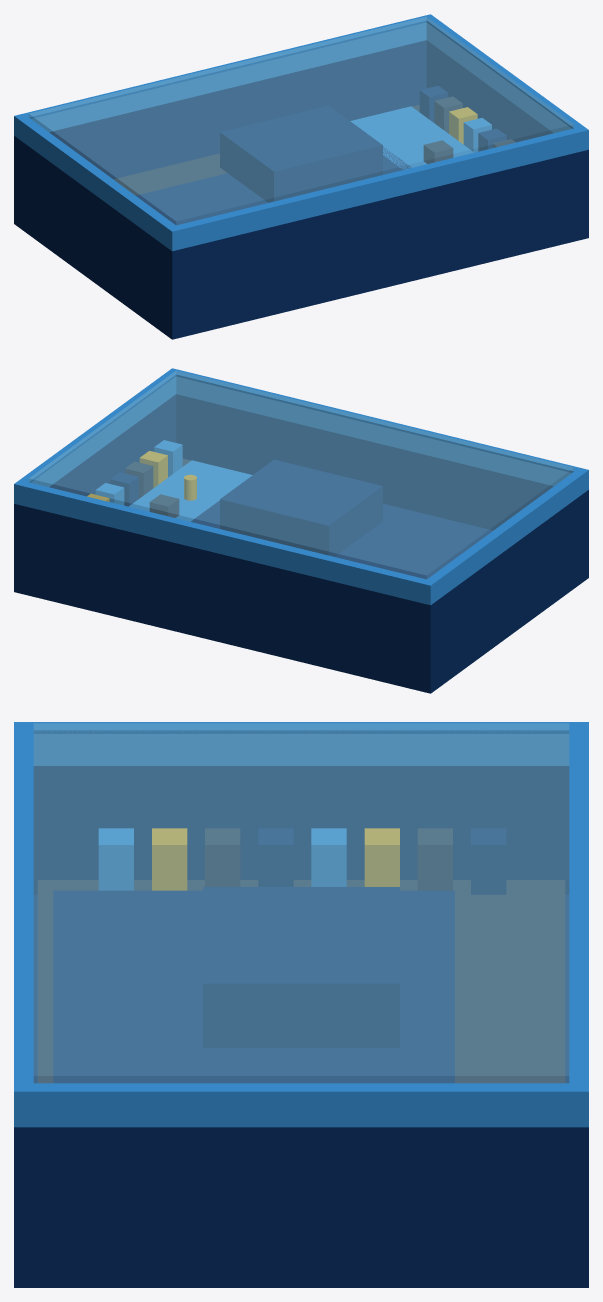
File: HR30_measurement_boundary_panel_candidate.glb
The picture shows the model from 3 angles, top to bottom: view 1: azimuth 30°, elevation 25°; view 2: azimuth 150°, elevation 25°; view 3: azimuth 270°, elevation 25°; orthographic projection. The views are drawn at different scales.
Parts seen in each view (by area): view 1: HAMMOND_RZ0269C_BASE_ENVELOPE, CLEAR_LID, CLEAR_LID_FRAME, KEYSTONE_2464_3AA_ENVELOPE, EIGHT_FLOATING_CHANNELS, BATTERY_SYNC_SLATE_ISLAND, PCB_186X106, CH8_OUTPUT_HEADER, CH5_OUTPUT_HEADER, CH7_OUTPUT_HEADER, CH6_OUTPUT_HEADER, SYNC_BUTTON (+1 smaller); view 2: HAMMOND_RZ0269C_BASE_ENVELOPE, CLEAR_LID, CLEAR_LID_FRAME, KEYSTONE_2464_3AA_ENVELOPE, EIGHT_FLOATING_CHANNELS, BATTERY_SYNC_SLATE_ISLAND, CH2_OUTPUT_HEADER, CH1_OUTPUT_HEADER, CH3_OUTPUT_HEADER, CH4_OUTPUT_HEADER, SYNC_BUTTON, CH5_OUTPUT_HEADER; view 3: CLEAR_LID, HAMMOND_RZ0269C_BASE_ENVELOPE, CLEAR_LID_FRAME, EIGHT_FLOATING_CHANNELS, KEYSTONE_2464_3AA_ENVELOPE, PCB_186X106, CH8_INPUT_HEADER, CH1_INPUT_HEADER, CH2_INPUT_HEADER, CH7_INPUT_HEADER, CH4_INPUT_HEADER, CH5_INPUT_HEADER (+2 smaller).
Boxes of the visible parts, x1,y1,x2,y2 form: HAMMOND_RZ0269C_BASE_ENVELOPE: [14, 40, 588, 339]; CLEAR_LID: [28, 16, 574, 225]; CLEAR_LID_FRAME: [14, 14, 588, 251]; KEYSTONE_2464_3AA_ENVELOPE: [220, 105, 382, 202]; EIGHT_FLOATING_CHANNELS: [136, 147, 411, 225]; BATTERY_SYNC_SLATE_ISLAND: [350, 106, 473, 169]; PCB_186X106: [114, 105, 419, 195]; CH8_OUTPUT_HEADER: [419, 86, 448, 122]; CH5_OUTPUT_HEADER: [463, 118, 491, 152]; CH7_OUTPUT_HEADER: [434, 96, 462, 133]; CH6_OUTPUT_HEADER: [449, 107, 477, 144]; SYNC_BUTTON: [423, 140, 453, 163]; HAMMOND_RZ0269C_BASE_ENVELOPE: [14, 394, 588, 693]; CLEAR_LID: [28, 370, 574, 579]; CLEAR_LID_FRAME: [14, 368, 588, 605]; KEYSTONE_2464_3AA_ENVELOPE: [220, 459, 382, 556]; EIGHT_FLOATING_CHANNELS: [191, 500, 492, 579]; BATTERY_SYNC_SLATE_ISLAND: [129, 460, 252, 521]; CH2_OUTPUT_HEADER: [139, 451, 167, 487]; CH1_OUTPUT_HEADER: [154, 440, 182, 477]; CH3_OUTPUT_HEADER: [125, 461, 153, 498]; CH4_OUTPUT_HEADER: [110, 472, 138, 506]; SYNC_BUTTON: [149, 494, 179, 517]; CH5_OUTPUT_HEADER: [95, 483, 124, 505]; CLEAR_LID: [33, 723, 569, 1083]; HAMMOND_RZ0269C_BASE_ENVELOPE: [14, 766, 588, 1287]; CLEAR_LID_FRAME: [14, 722, 588, 1127]; EIGHT_FLOATING_CHANNELS: [53, 890, 454, 1083]; KEYSTONE_2464_3AA_ENVELOPE: [203, 887, 399, 1047]; PCB_186X106: [37, 880, 565, 1083]; CH8_INPUT_HEADER: [471, 828, 506, 894]; CH1_INPUT_HEADER: [98, 828, 133, 890]; CH2_INPUT_HEADER: [152, 828, 187, 890]; CH7_INPUT_HEADER: [417, 828, 452, 890]; CH4_INPUT_HEADER: [258, 828, 293, 886]; CH5_INPUT_HEADER: [311, 828, 346, 886].
Bounding box in the file's own units: 222 × 57 × 146.
